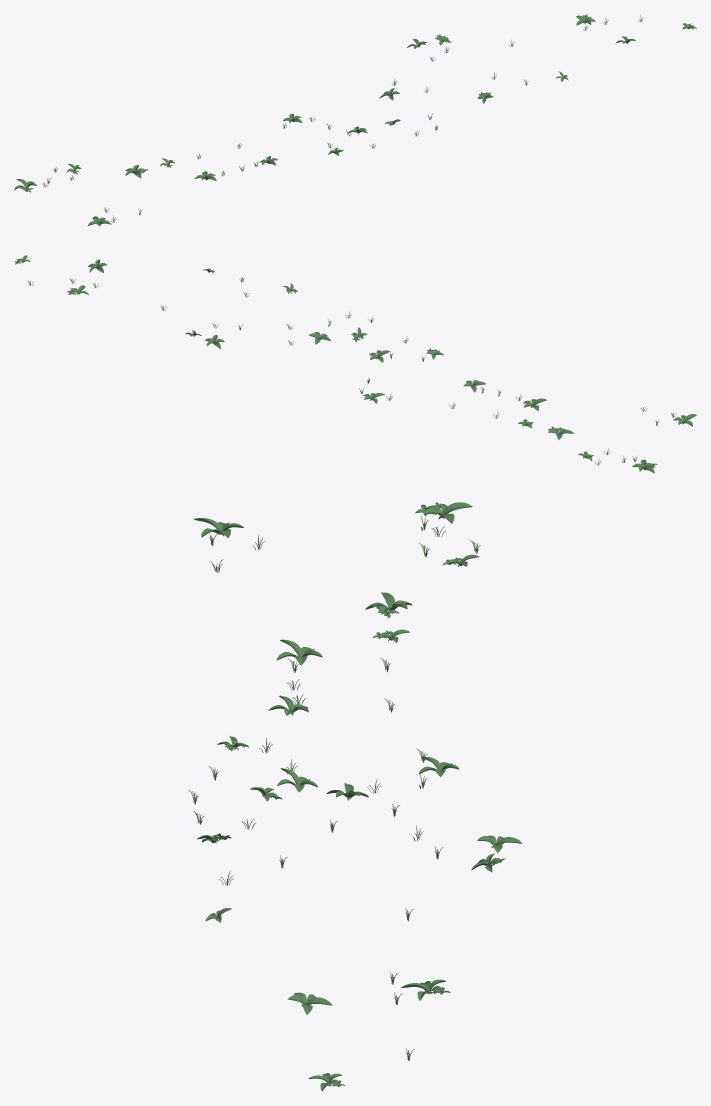
File: plants_block_4.gltf
3 renders of one model, top to bottom at view 1: azimuth 30°, elevation 25°; view 2: azimuth 150°, elevation 25°; view 3: azimuth 270°, elevation 25°, orthographic. The views are drawn at different scales.
Bounding box in the file's own units: 34.13 × 2.08 × 7.58.
